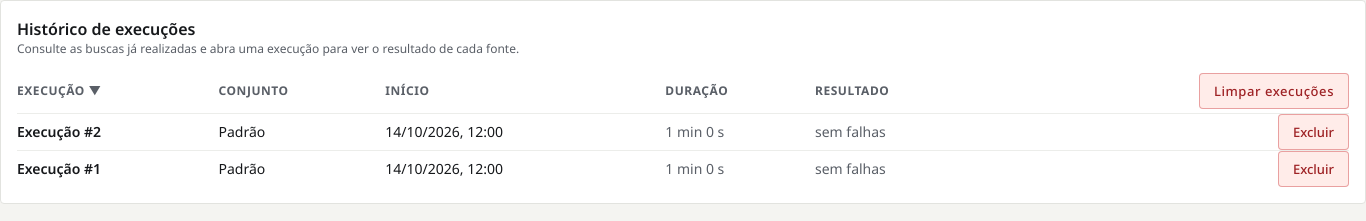
Test: ExecucoesPage — excluir uma execução › após confirmar, exclui só a linha escolhida e recarrega a lista
This screenshot has width=1366, height=221.
Click the button with aria-label "Excluir execução #2" at (1313, 132), box [1278, 114, 1349, 150]
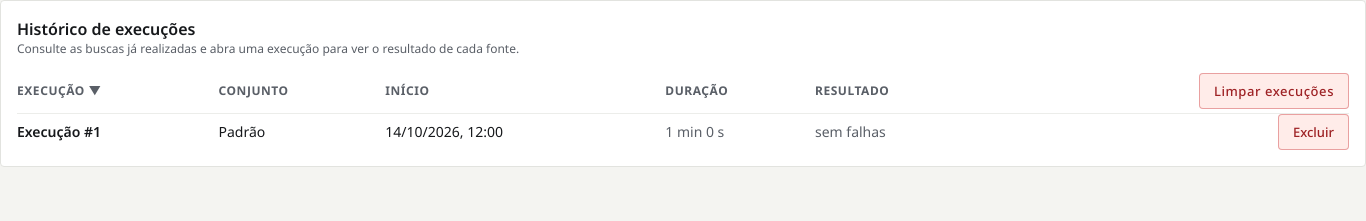
Expected: the button "Execução #1" is shown, [17, 122, 101, 142]
Expected: the button "Execução #2" is gone
